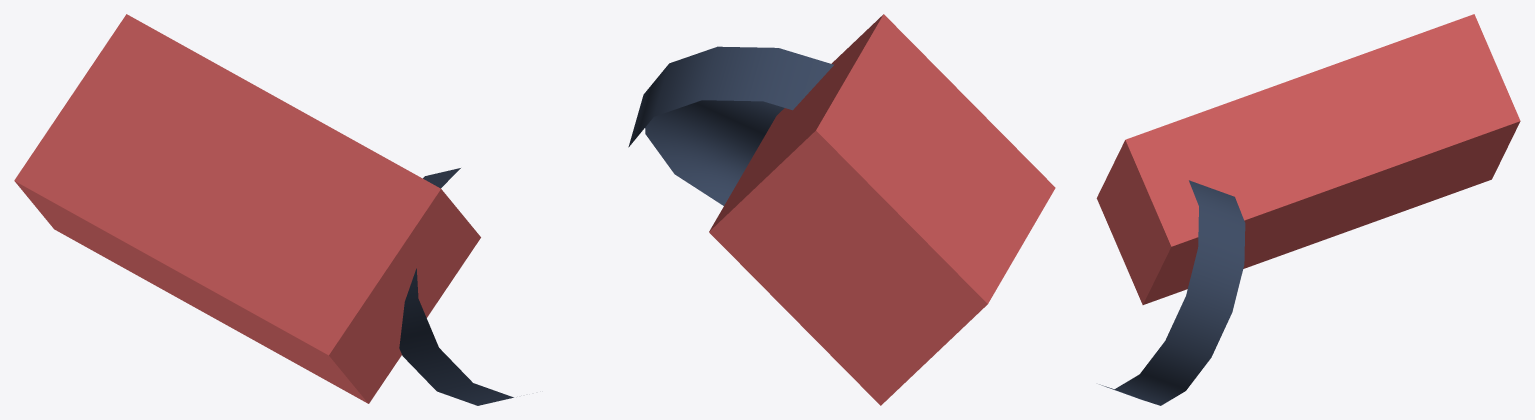
File: tractor-wreck.glb
3 renders of one model, left to right at view 1: azimuth 30°, elevation 25°; view 2: azimuth 150°, elevation 25°; view 3: azimuth 270°, elevation 25°, orthographic. The views are drawn at different scales.
Visible parts, largest first — view 1: Root; view 2: Root; view 3: Root.
Part boxes in pixels (x1,y1,x2,y2): Root: (14,14,513,405); Root: (628,14,1055,405); Root: (1096,14,1520,405).
Size of the model in its own units: 3.93 by 2.65 by 3.64.
